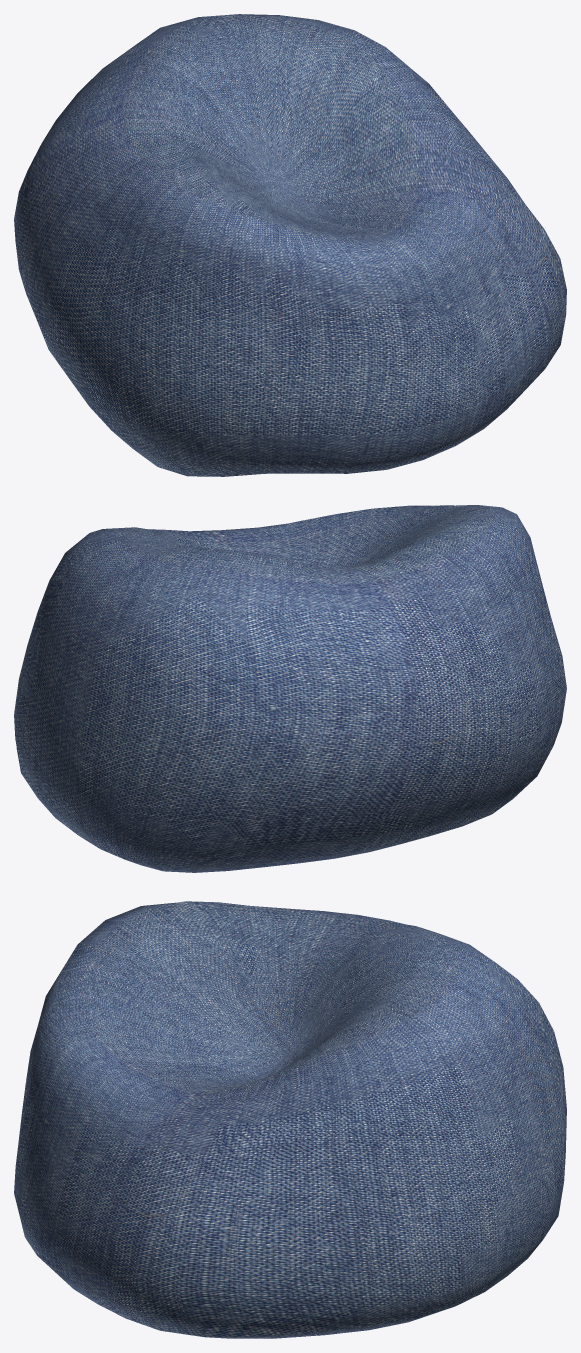
File: Bean_Bag_2_Textured.fbx
3 renders of one model, top to bottom at view 1: azimuth 30°, elevation 25°; view 2: azimuth 150°, elevation 25°; view 3: azimuth 270°, elevation 25°, orthographic.
Visible parts, largest first — view 1: nurbsToPoly2; view 2: nurbsToPoly2; view 3: nurbsToPoly2.
Part boxes in pixels (left/top/right/bottom): nurbsToPoly2: left=14, top=14, right=566, bottom=476; nurbsToPoly2: left=14, top=505, right=566, bottom=872; nurbsToPoly2: left=14, top=901, right=566, bottom=1338.
Size of the model in its own units: 1.02 by 0.6539 by 1.04.
1 material, 1 textured.
